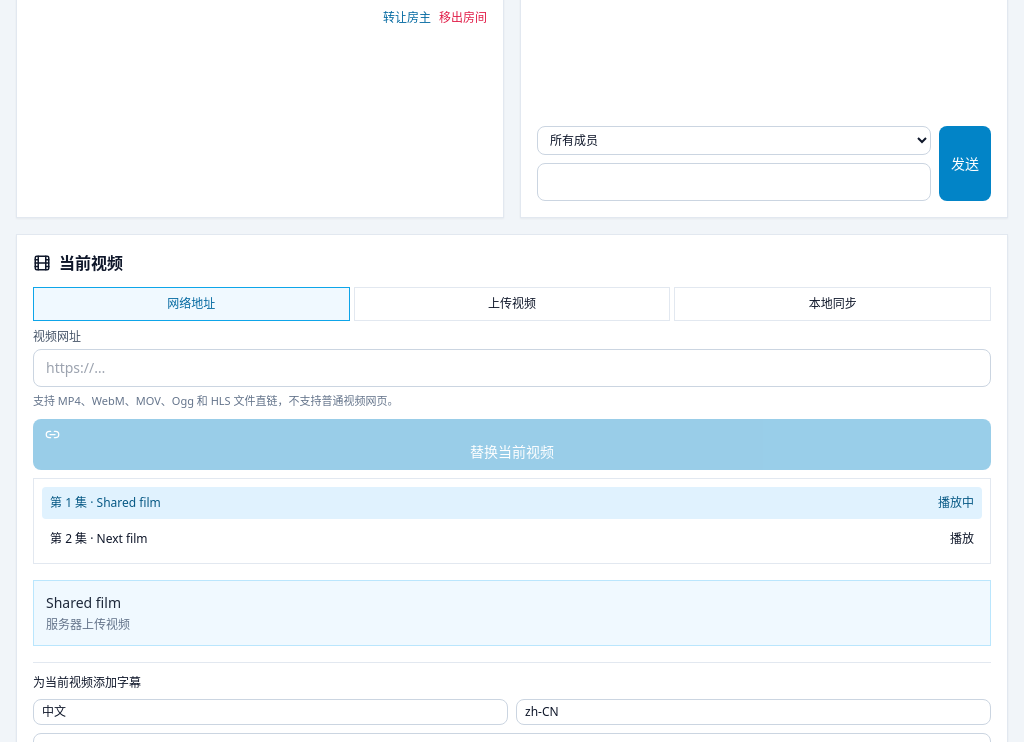
Scenario: video room page › keeps host video controls when the saved user id is a string
(page scrolled)
Type "https://media.example/host.mp4" into the field labelled "视频网址" at [512, 368], box [33,349,991,387]
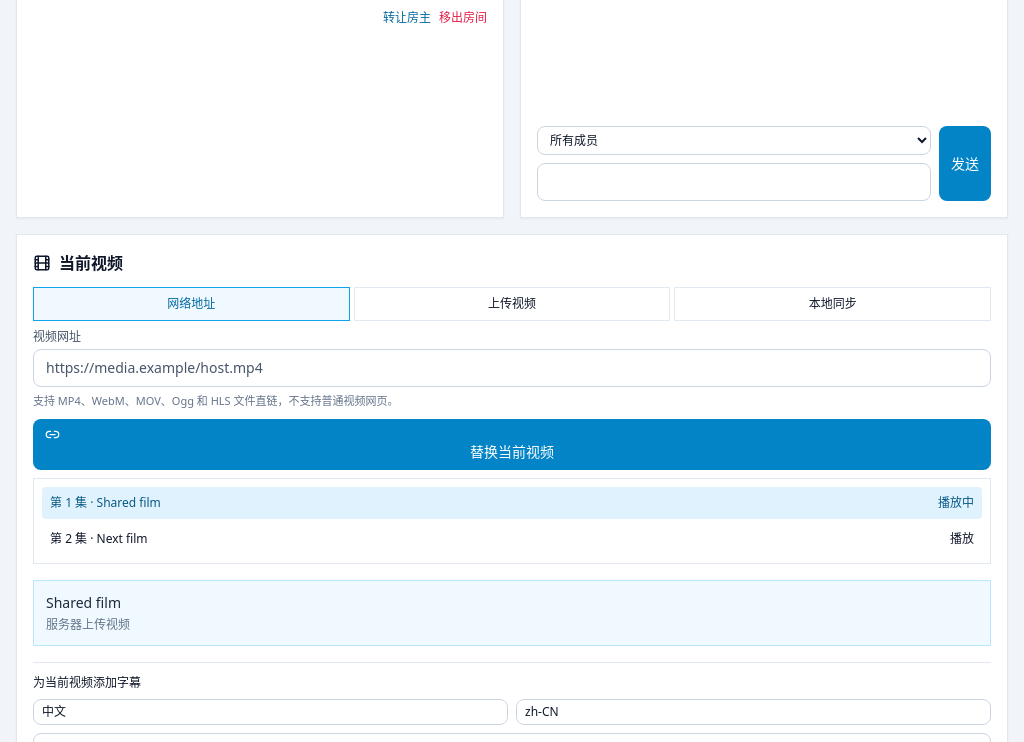
Result: the button "替换当前视频" is enabled at [33,419,991,470]
